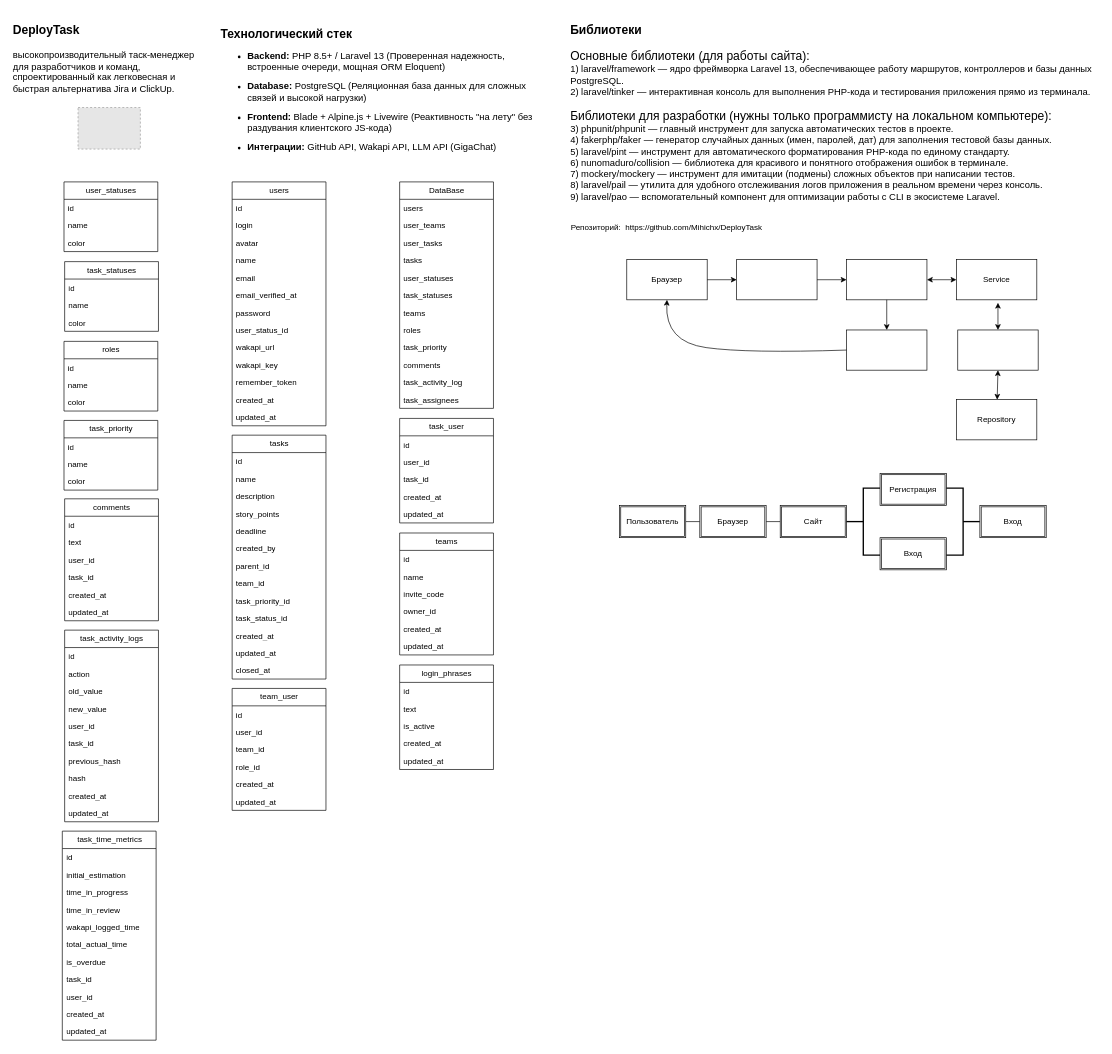
Image size: 1112x1054. Some labels were removed from this diagram. Grey dashed boxes stand in for pictures. Each missing label, with the centre of its shape:
Controller: the point at 886,279
Interface: the point at 997,349
route: the point at 776,279
View: the point at 886,349
